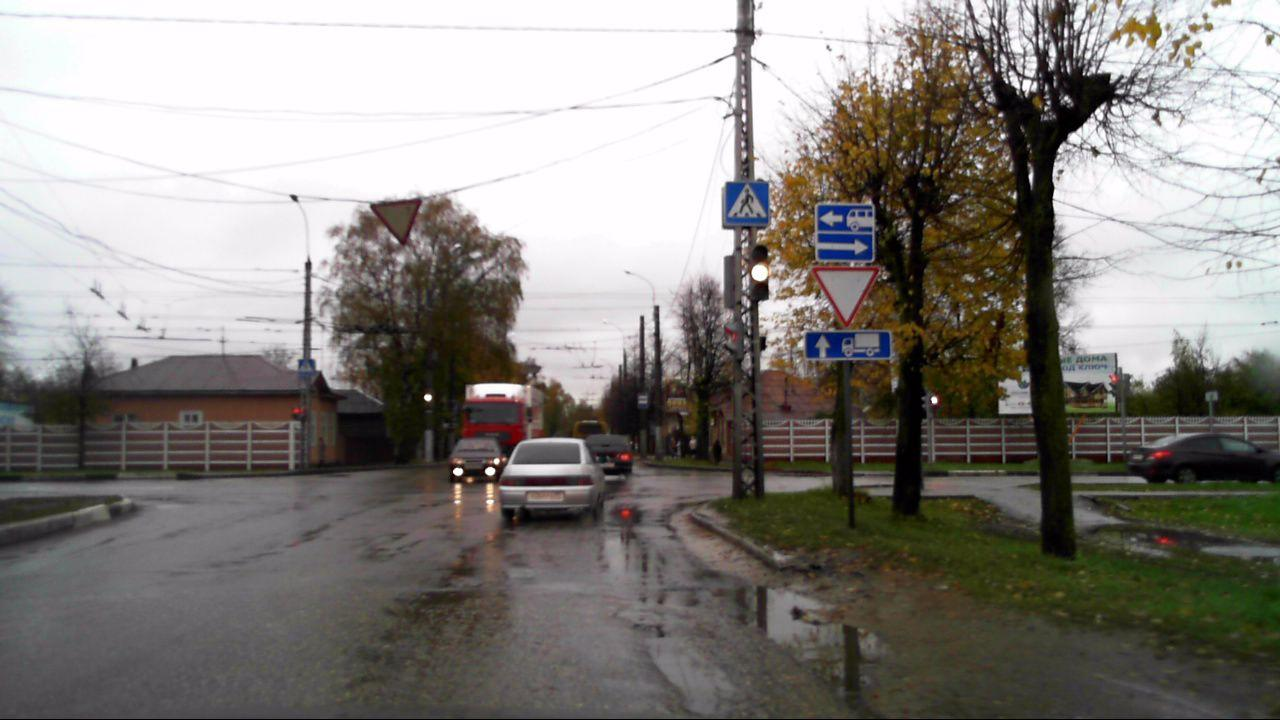2_4: (810, 264, 879, 325), (368, 198, 422, 246)
5_13_1: (815, 203, 875, 261)
5_19_1: (725, 181, 770, 226)
5_19_2: (297, 359, 316, 378)
6_15_1: (806, 332, 892, 360)
